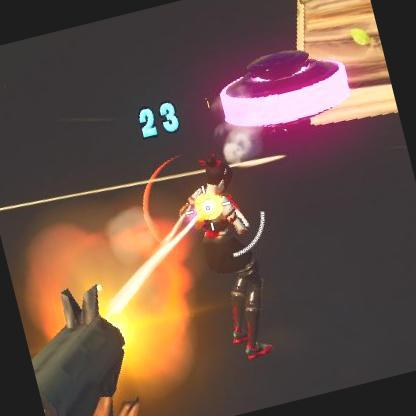person: (172, 158, 296, 360)
